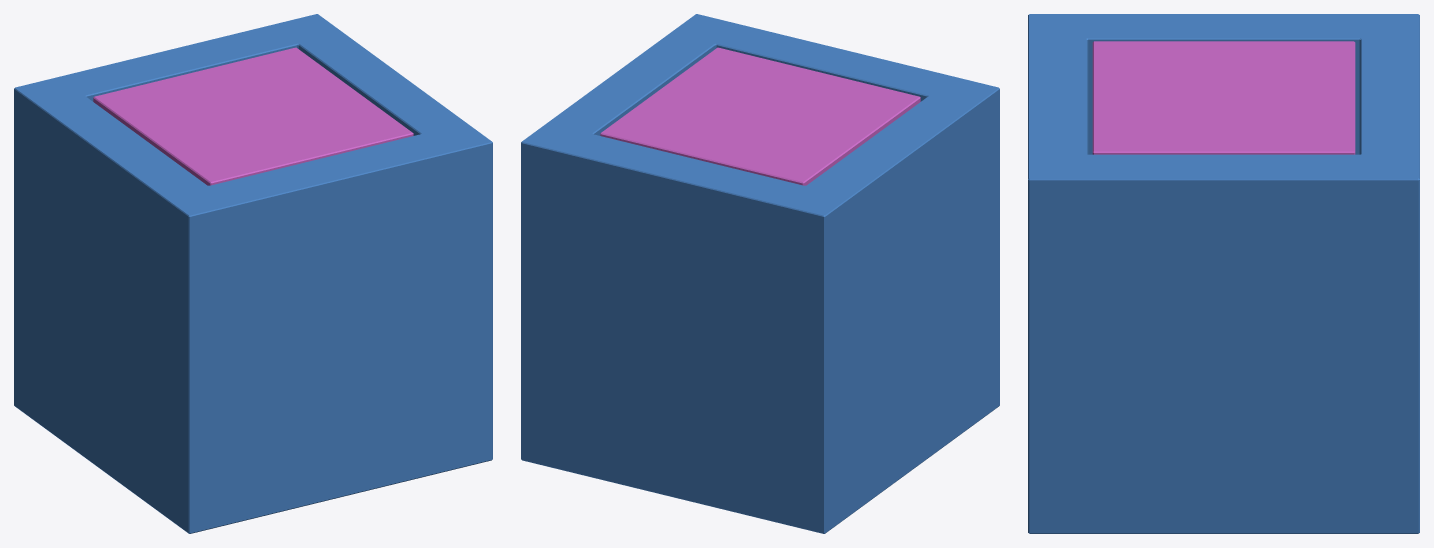
The model's file is anim-test-1-boxes.dae.
The picture shows the model from 3 angles, left to right: view 1: azimuth 30°, elevation 25°; view 2: azimuth 150°, elevation 25°; view 3: azimuth 270°, elevation 25°; orthographic projection. The views are drawn at different scales.
Visible parts, largest first — view 1: outer_box, inner_box; view 2: outer_box, inner_box; view 3: outer_box, inner_box.
Boxes of the visible parts, x1=… form: outer_box: x1=14, y1=14, x2=492, y2=533; inner_box: x1=93, y1=47, x2=413, y2=185; outer_box: x1=521, y1=14, x2=999, y2=533; inner_box: x1=600, y1=47, x2=920, y2=185; outer_box: x1=1028, y1=14, x2=1419, y2=533; inner_box: x1=1092, y1=41, x2=1355, y2=154.
Size of the model in its own units: 1 by 1 by 1.
